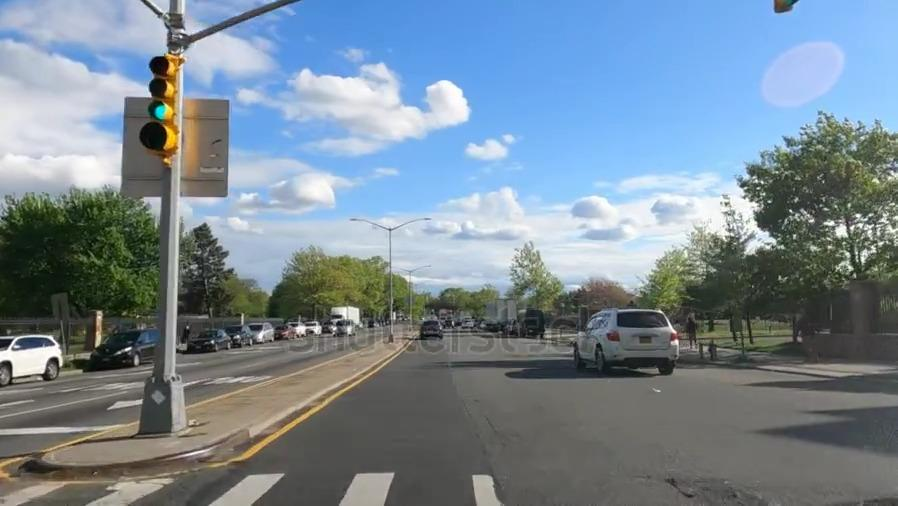car: (558, 304, 679, 368), (0, 331, 62, 389), (89, 330, 151, 365), (192, 328, 228, 355), (246, 319, 271, 345), (416, 320, 445, 340), (226, 326, 250, 347), (302, 319, 322, 339), (335, 322, 357, 338), (279, 324, 291, 340), (291, 322, 303, 338)
pedestrian: (0, 468, 894, 506)
person: (681, 314, 699, 345), (179, 320, 191, 342)
road damage: (665, 469, 755, 506)
traffic light: (143, 51, 187, 169)
